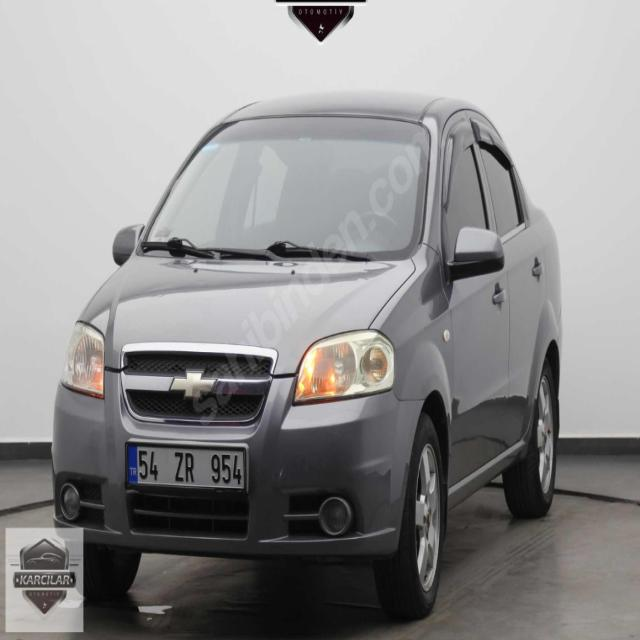chevrolet: (166, 365, 220, 405)
